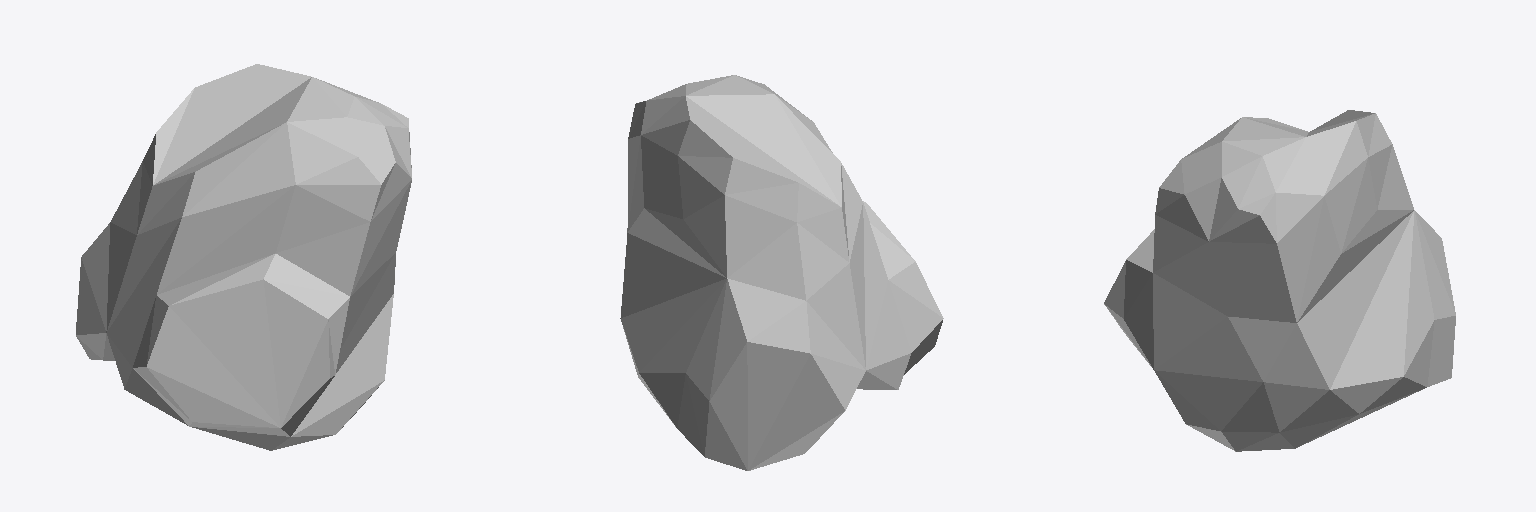
Rendered from Roca3.obj.
3 views of the same model, side by side, from view 1: azimuth 30°, elevation 25°; view 2: azimuth 150°, elevation 25°; view 3: azimuth 270°, elevation 25° (orthographic).
Visible parts, largest first — view 1: Icosphere; view 2: Icosphere; view 3: Icosphere.
Part boxes in pixels (left/top/right/bottom): Icosphere: left=76, top=64, right=411, bottom=450; Icosphere: left=620, top=75, right=943, bottom=470; Icosphere: left=1104, top=110, right=1455, bottom=451.
Bounding box in the file's own units: 1.89 × 1.95 × 2.02.